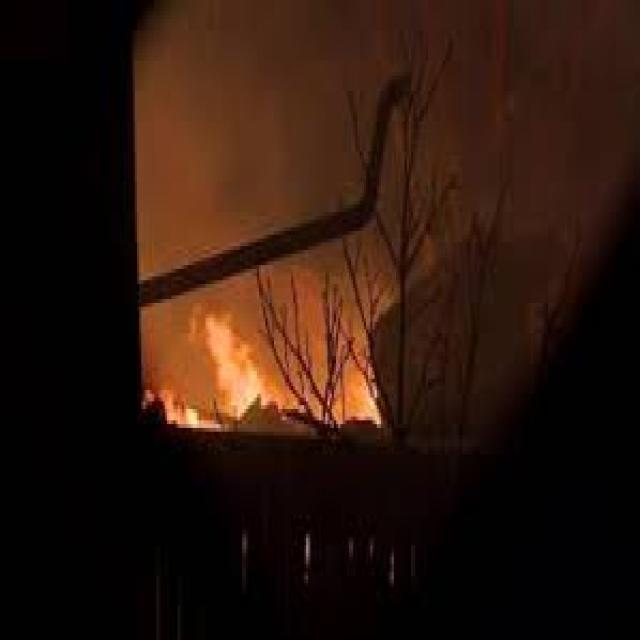Fire: (131, 276, 385, 464)
